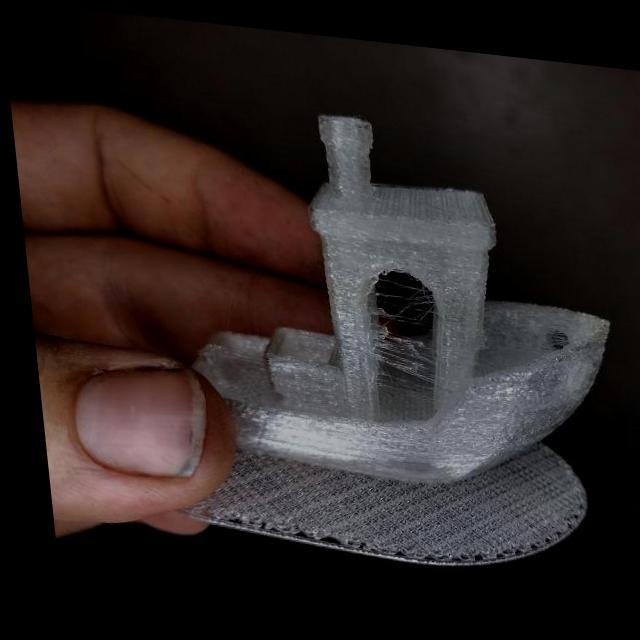stringing: (371, 266, 428, 319), (370, 326, 426, 371)
